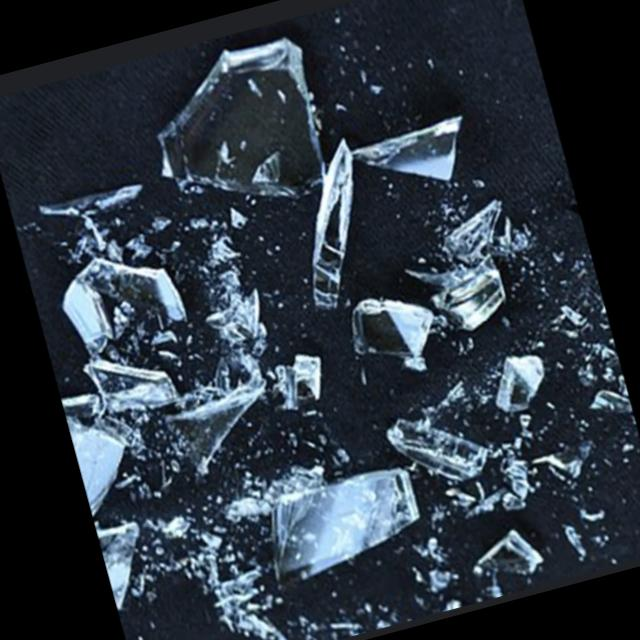PecahanKaca: (0, 0, 640, 640), (134, 29, 341, 232), (252, 456, 431, 592)
